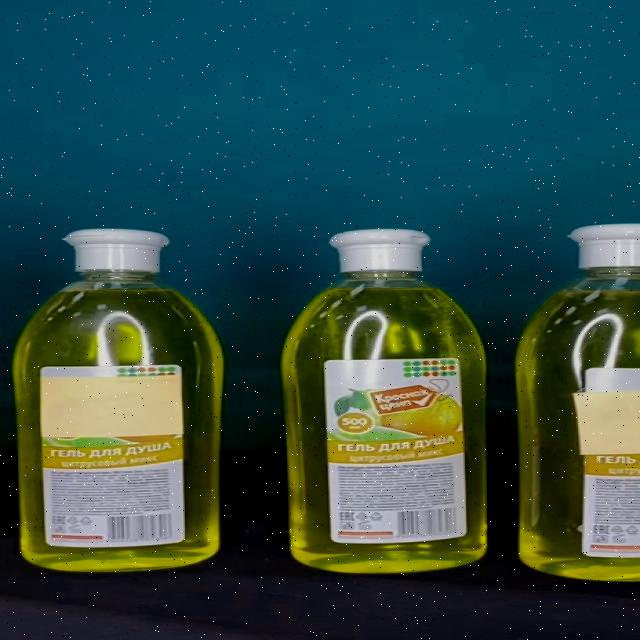Bottle: (10, 228, 224, 570), (281, 230, 485, 574)
Cap: (64, 229, 170, 272), (326, 230, 430, 272)
